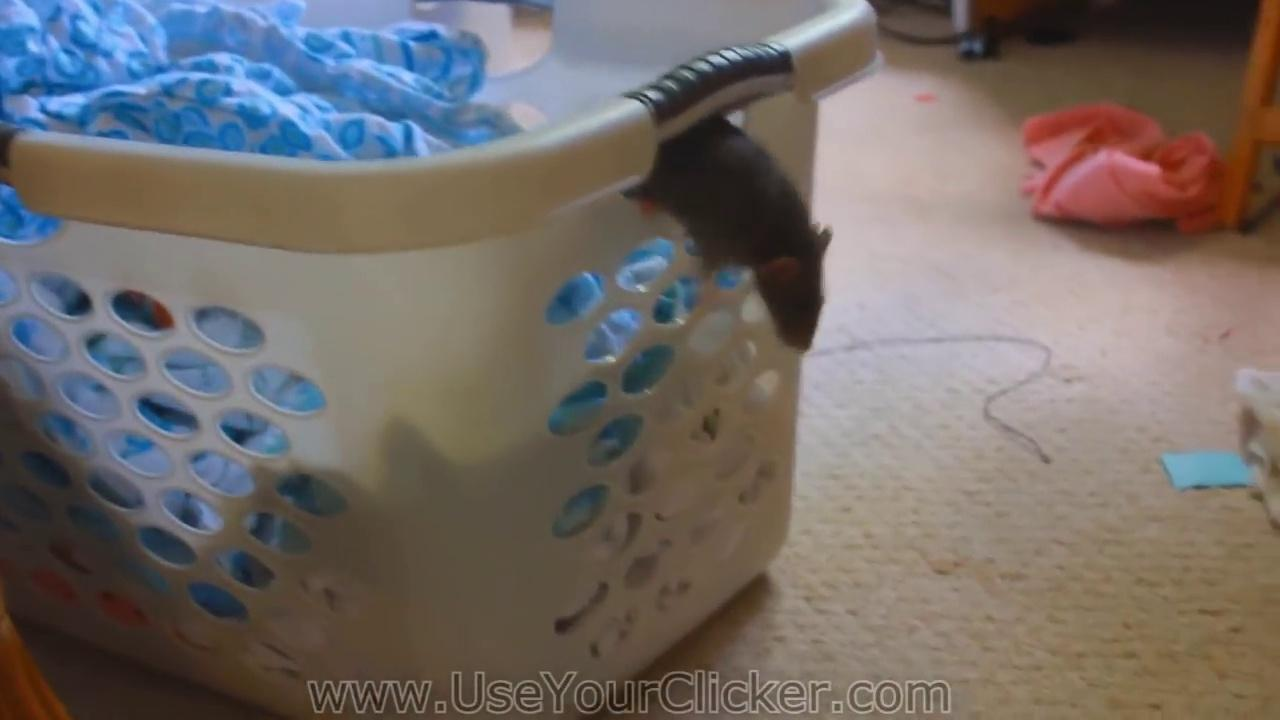rat: (623, 115, 834, 353)
